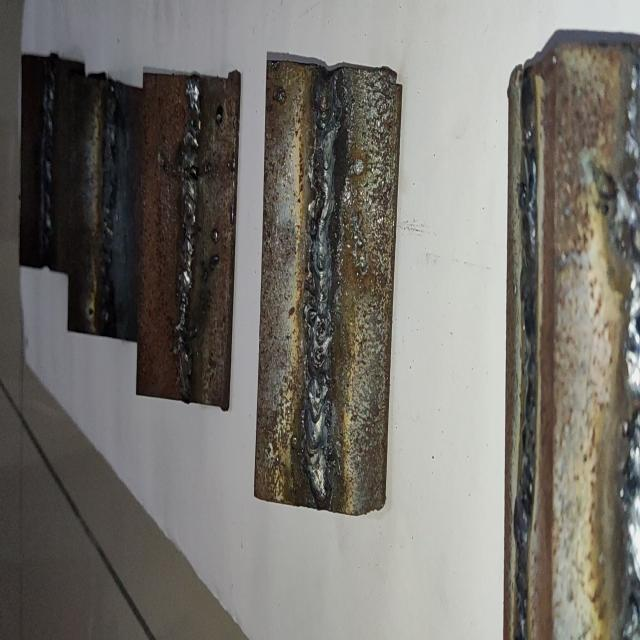Bad Weld: (174, 75, 202, 394), (100, 81, 114, 334)
Defect: (102, 76, 118, 331), (175, 77, 204, 216)
Good Weld: (302, 76, 344, 494), (42, 61, 56, 265)
